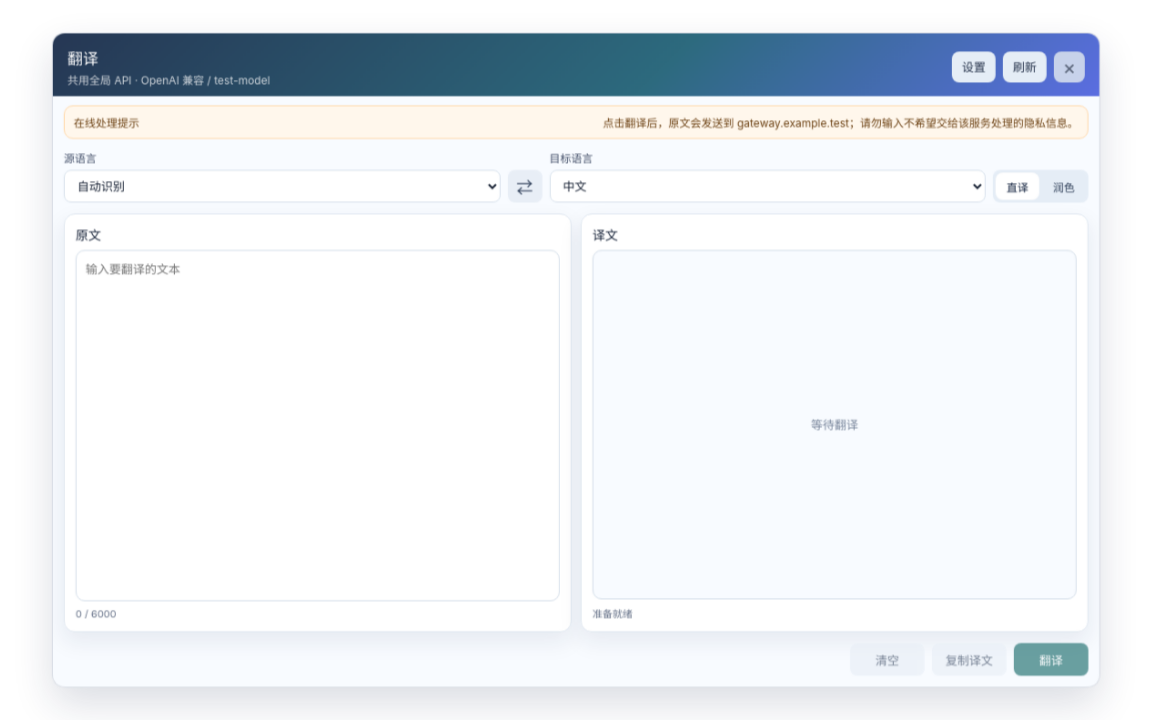
Scenario: TranslatorWindow › refreshes effective connection before sending and does not send when it becomes unavailable
The width and height of the screenshot is (1152, 720).
Type "测试原文" into the text box labelled "原文 0 / 6000" at (318, 426), box [76, 250, 560, 601]
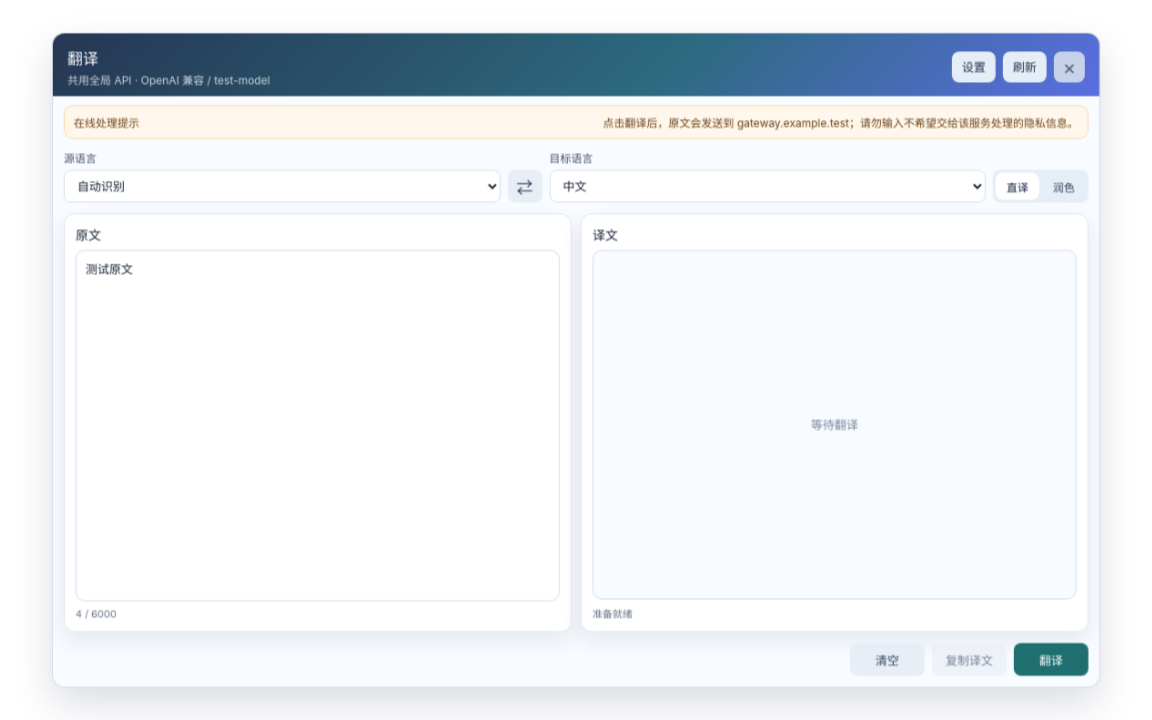
Click the button with class "translator-primary-button" at (1051, 659), box [1014, 643, 1088, 676]
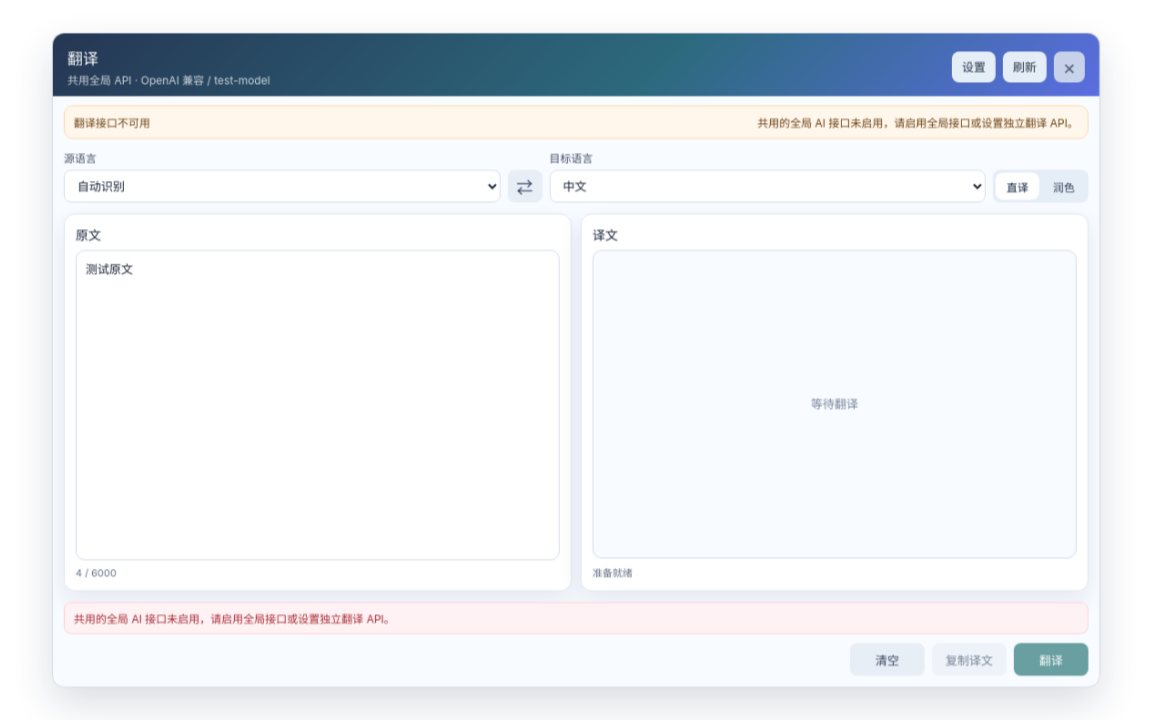
Expected: the message with class "translator-error" shows "未启用", [64, 602, 1088, 634]
